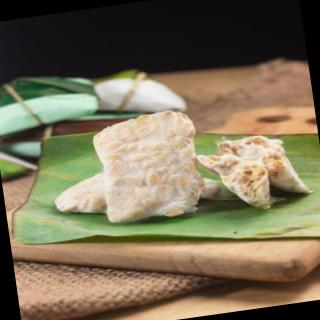Tempe: (1, 54, 192, 165), (194, 124, 317, 219), (1, 66, 103, 138), (92, 63, 189, 125), (51, 171, 110, 221)
